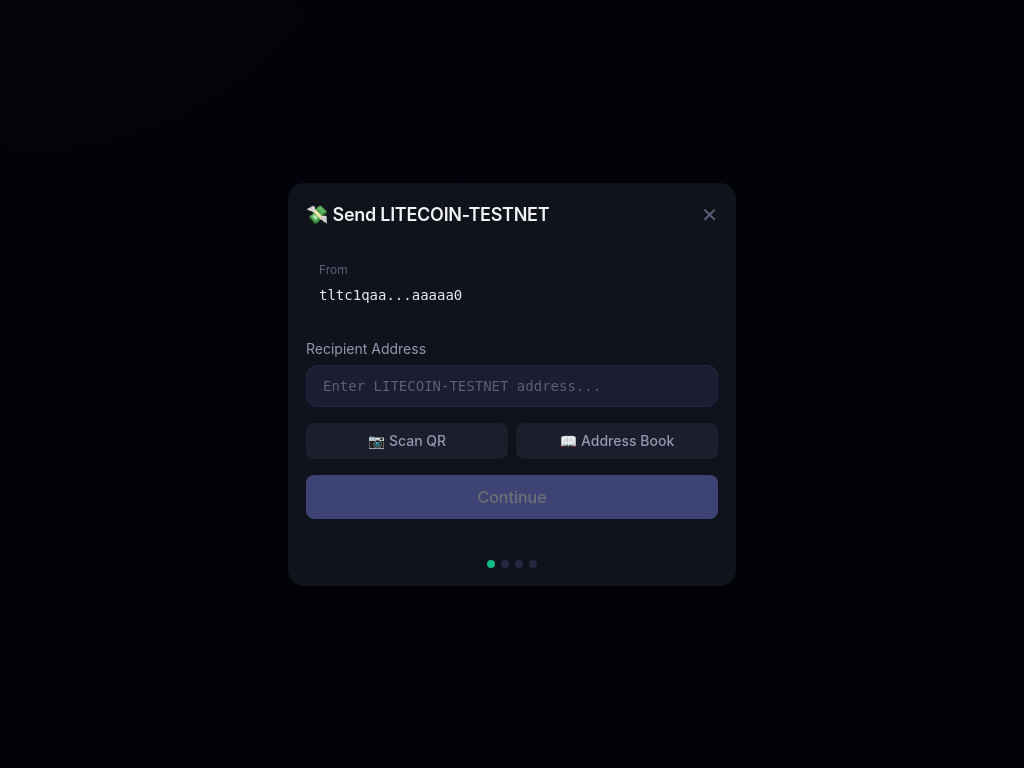
Test case: Send.svelte › shows insufficient balance when amount exceeds balance
The image size is (1024, 768).
Type "tltc1qvalidadr" into the field with placeholder "Enter LITECOIN-TESTNET address...".
click(512, 386); type("tltc1qvalidadr")  # box [306,364,718,406]
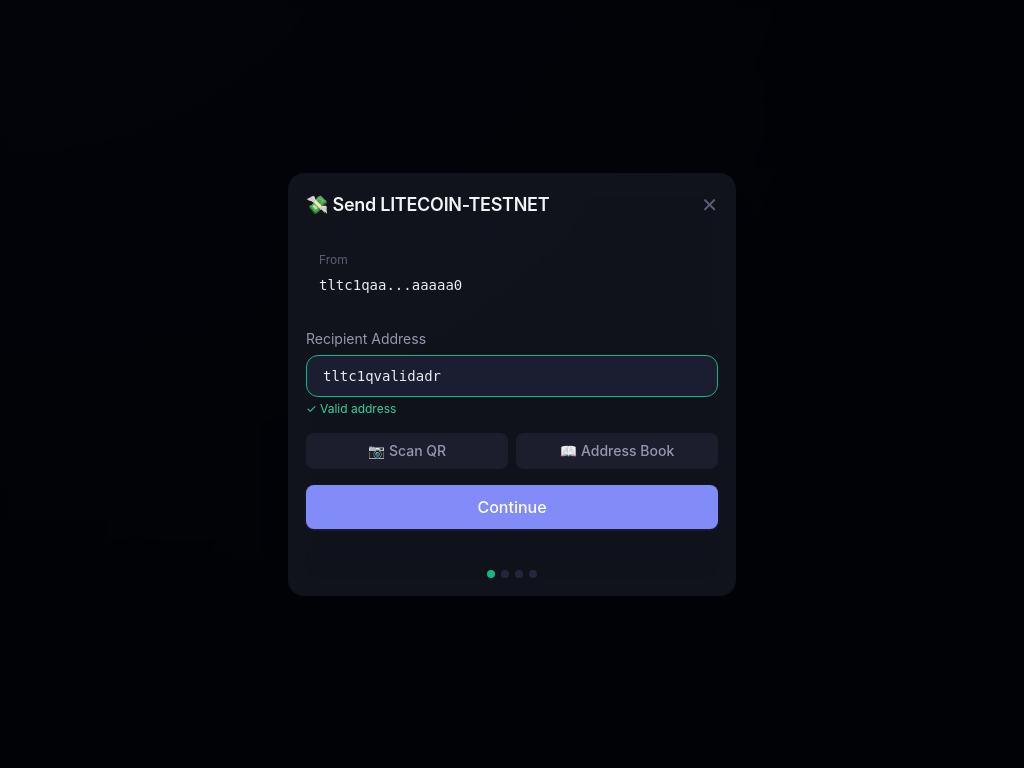
Click the button "Continue".
click(512, 506)  # box [306,484,718,528]
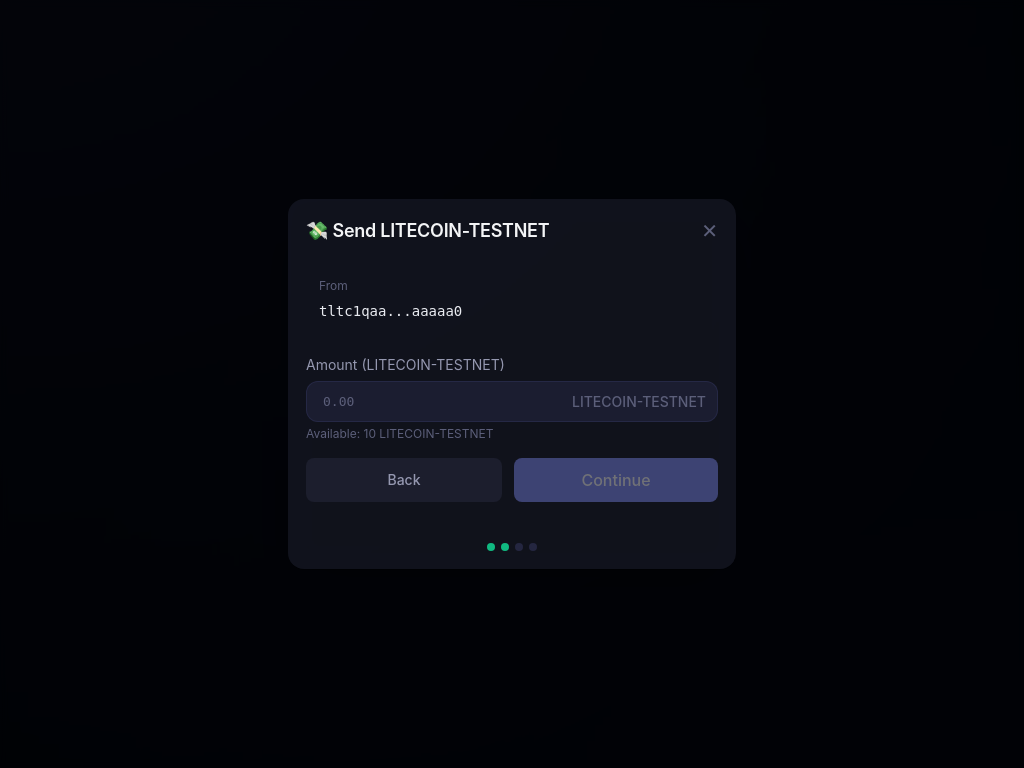
Type "100" into the number field with placeholder "0.00".
click(512, 402); type("100")  # box [306,381,718,422]
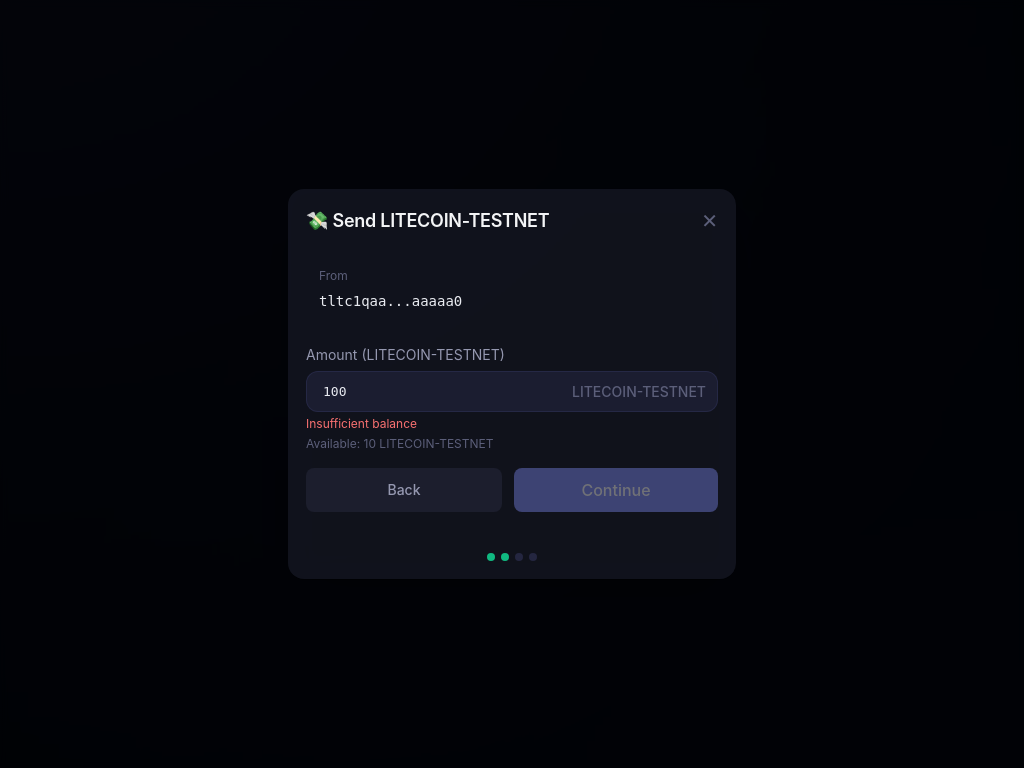
Expected: the text "Insufficient balance" is shown, [306,416,417,431]
